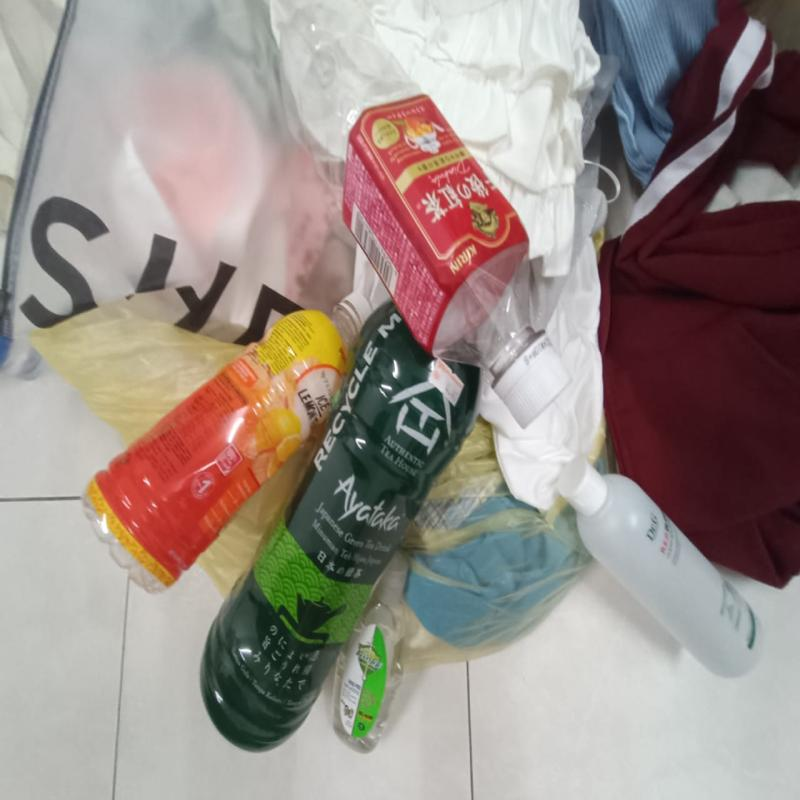botella: (197, 303, 481, 768), (269, 0, 574, 430), (87, 288, 384, 592)
